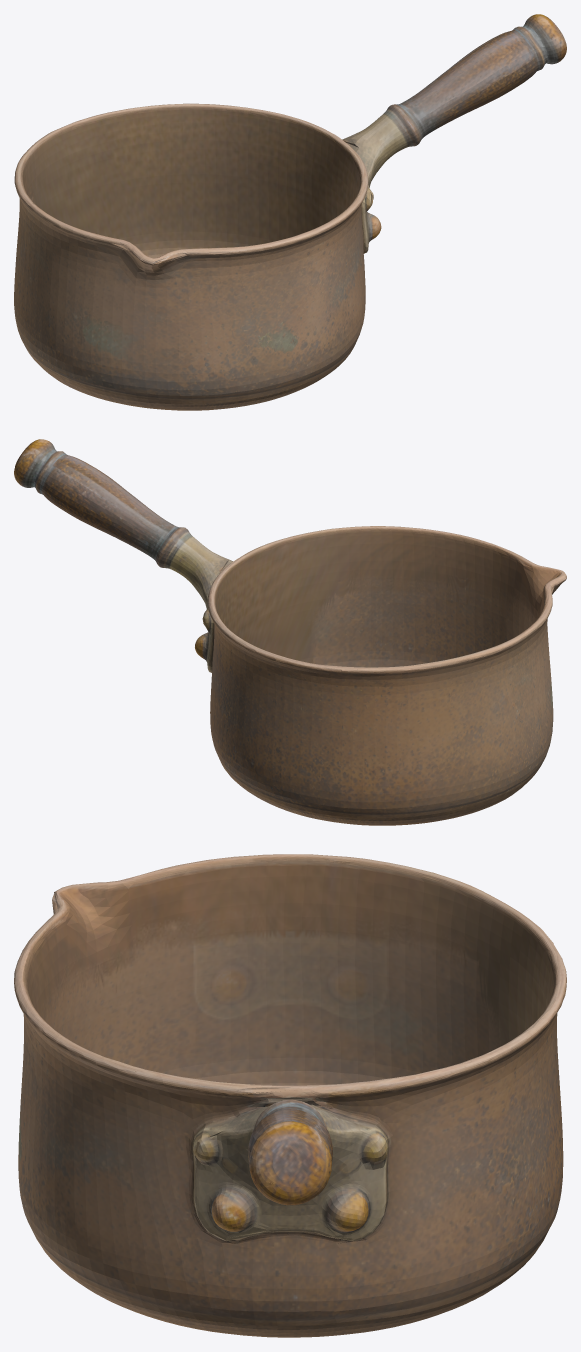
File: Pan1.fbx
3 views of the same model, one above another, from view 1: azimuth 30°, elevation 25°; view 2: azimuth 150°, elevation 25°; view 3: azimuth 270°, elevation 25° (orthographic). The views are drawn at different scales.
Parts seen in each view (by area): view 1: Pan1_Low; view 2: Pan1_Low; view 3: Pan1_Low.
Boxes of the visible parts, x1=… form: Pan1_Low: x1=14, y1=14, x2=566, y2=410; Pan1_Low: x1=14, y1=439, x2=566, y2=825; Pan1_Low: x1=14, y1=854, x2=566, y2=1337.
Bounding box in the file's own units: 0.9991 × 0.4591 × 0.5873.
